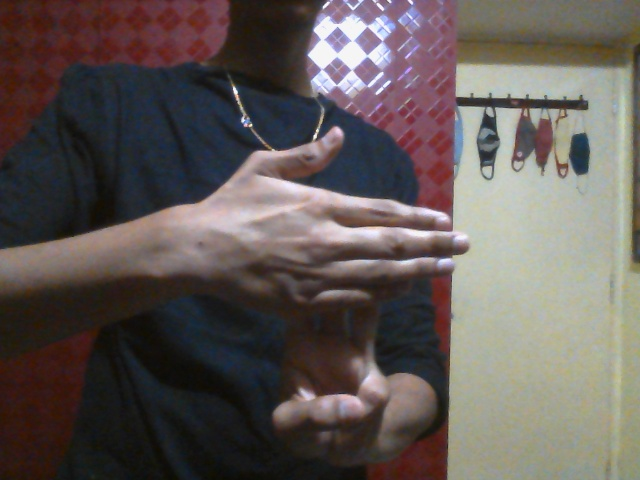M: (184, 129, 471, 462)
